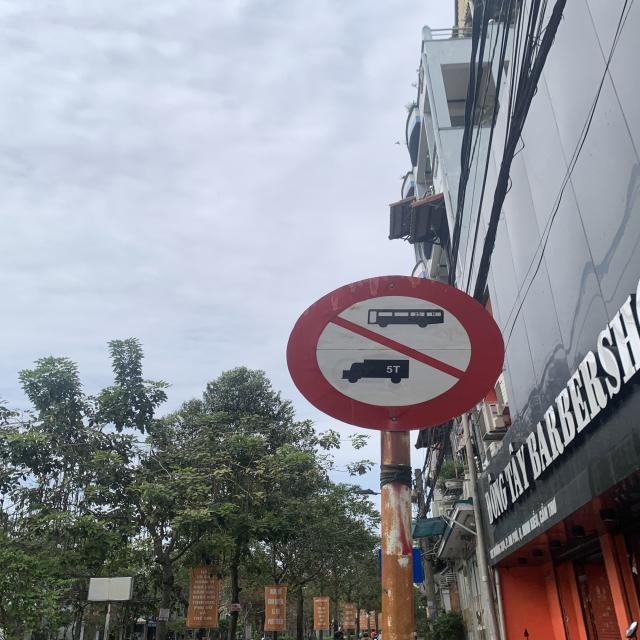Cam_XeTai_XeKhach: (289, 274, 507, 429)
